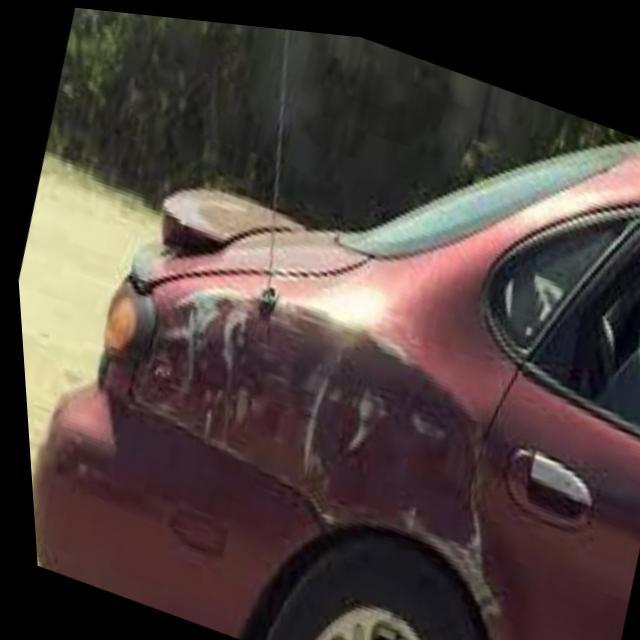rub: (108, 272, 505, 640)
